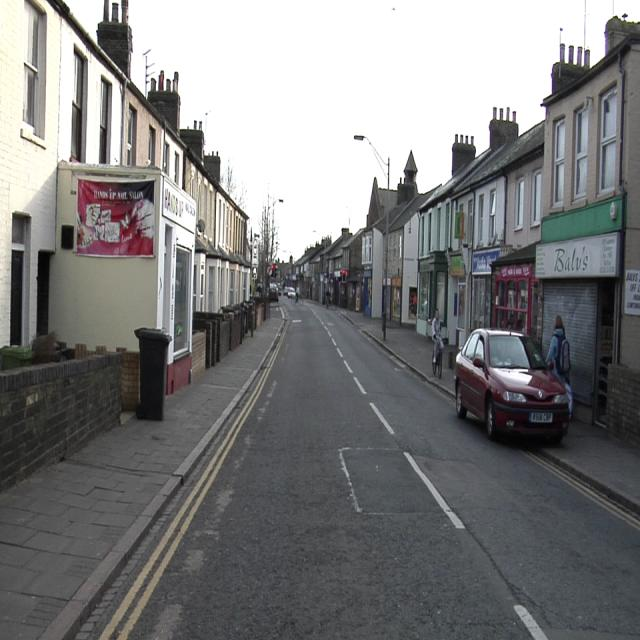Bicyclist: (546, 315, 570, 386), (431, 308, 444, 378), (568, 390, 574, 412)
Building: (292, 17, 640, 438)
Car: (455, 328, 570, 440), (288, 288, 296, 298)
Road: (80, 303, 640, 638)
